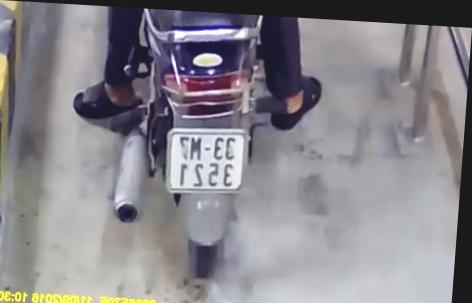License_Plate: (157, 119, 264, 205)
